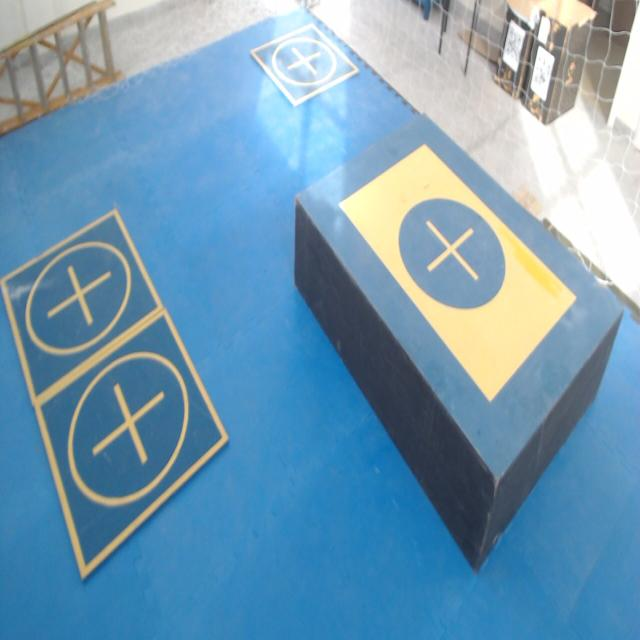base_inicio: (338, 144, 576, 403)
base_pouso: (34, 305, 230, 583), (0, 209, 164, 409), (250, 19, 360, 107)
